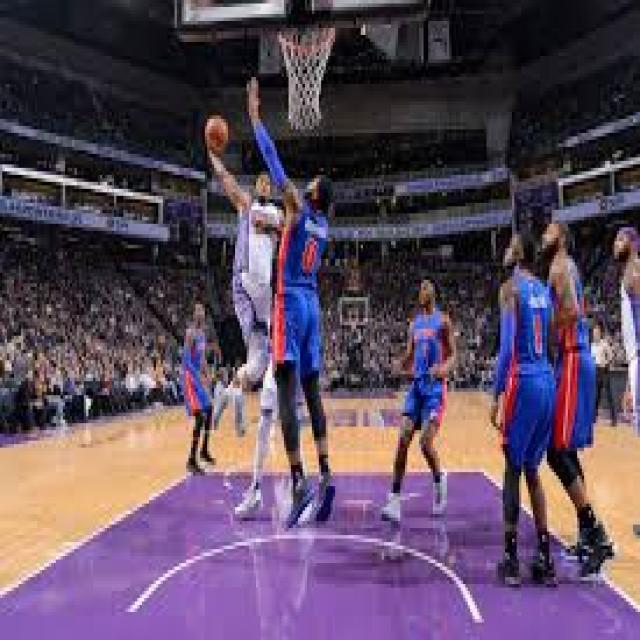rim: (207, 112, 228, 154)
